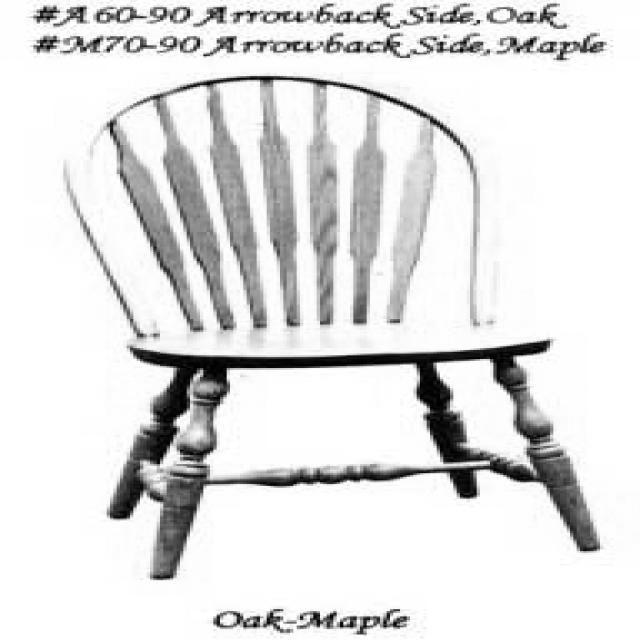chair: (58, 64, 600, 584)
